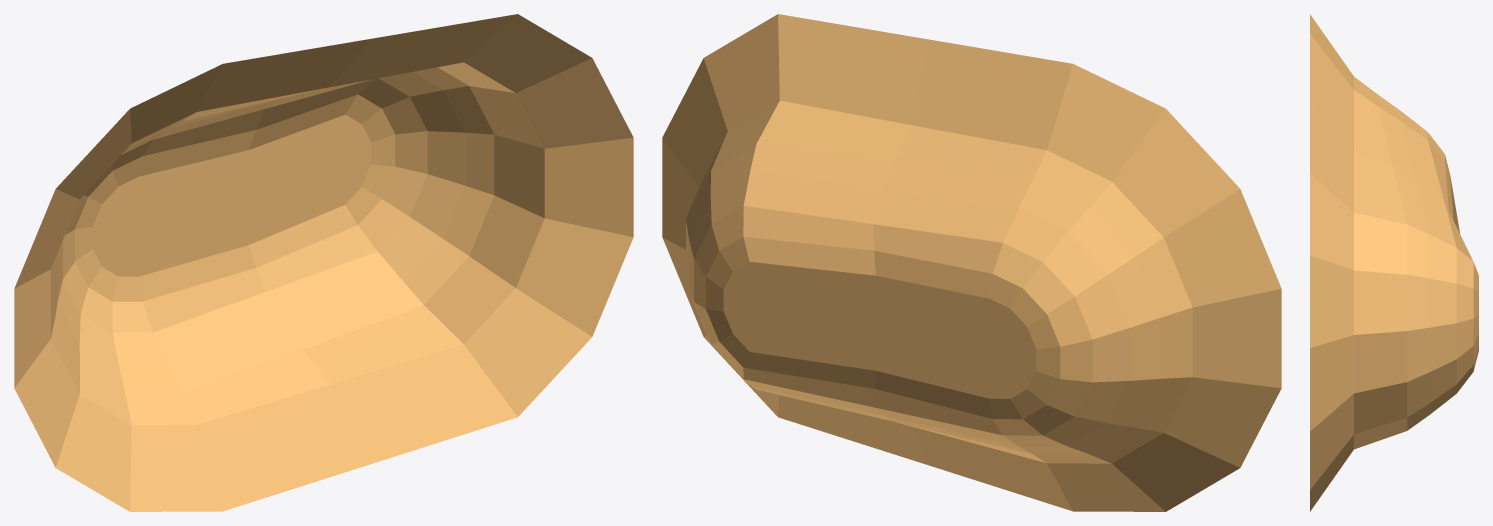
File: Sand_Pile_2.fbx
3 renders of one model, left to right at view 1: azimuth 30°, elevation 25°; view 2: azimuth 150°, elevation 25°; view 3: azimuth 270°, elevation 25°, orthographic. The views are drawn at different scales.
Visible parts, largest first — view 1: Sphere; view 2: Sphere; view 3: Sphere.
Part boxes in pixels (left/top/right/bottom): Sphere: left=14, top=14, right=633, bottom=511; Sphere: left=662, top=14, right=1281, bottom=511; Sphere: left=1310, top=14, right=1478, bottom=511.
Size of the model in its own units: 522 by 360 by 147.
